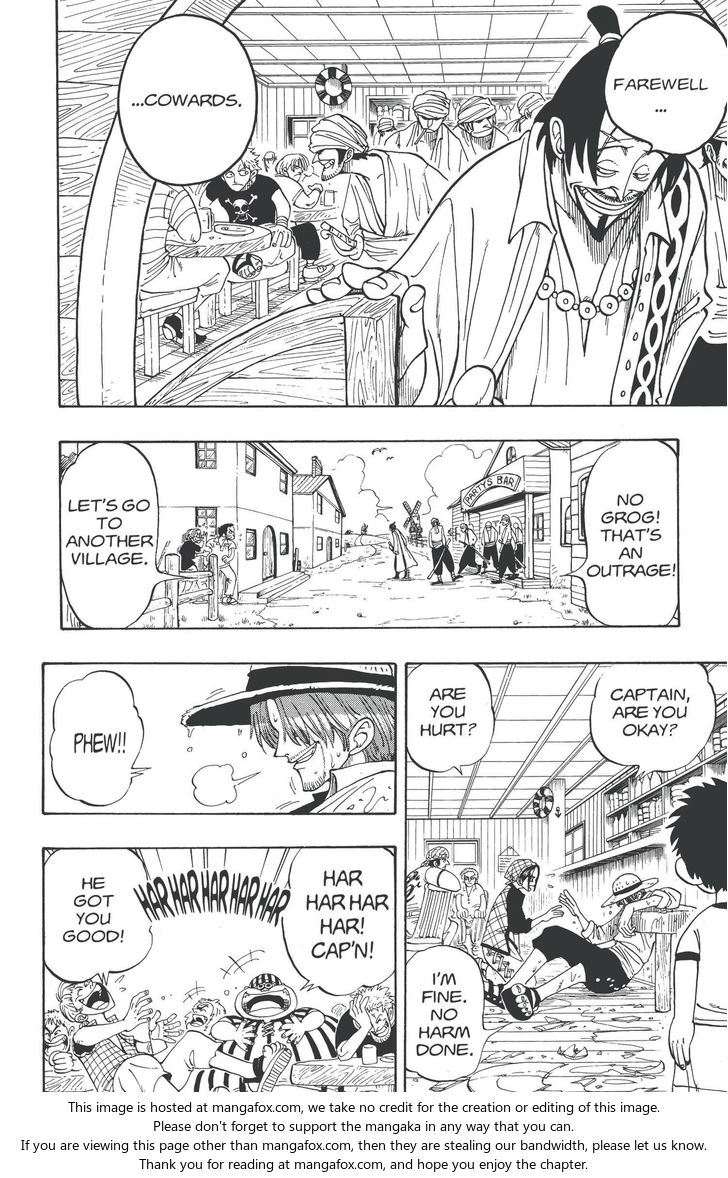bubble: (61, 442, 192, 629), (119, 15, 257, 185), (561, 440, 679, 626), (604, 12, 727, 155), (282, 846, 396, 995), (43, 848, 153, 986), (590, 662, 716, 781), (404, 945, 508, 1081), (50, 671, 152, 807), (406, 663, 494, 774)
